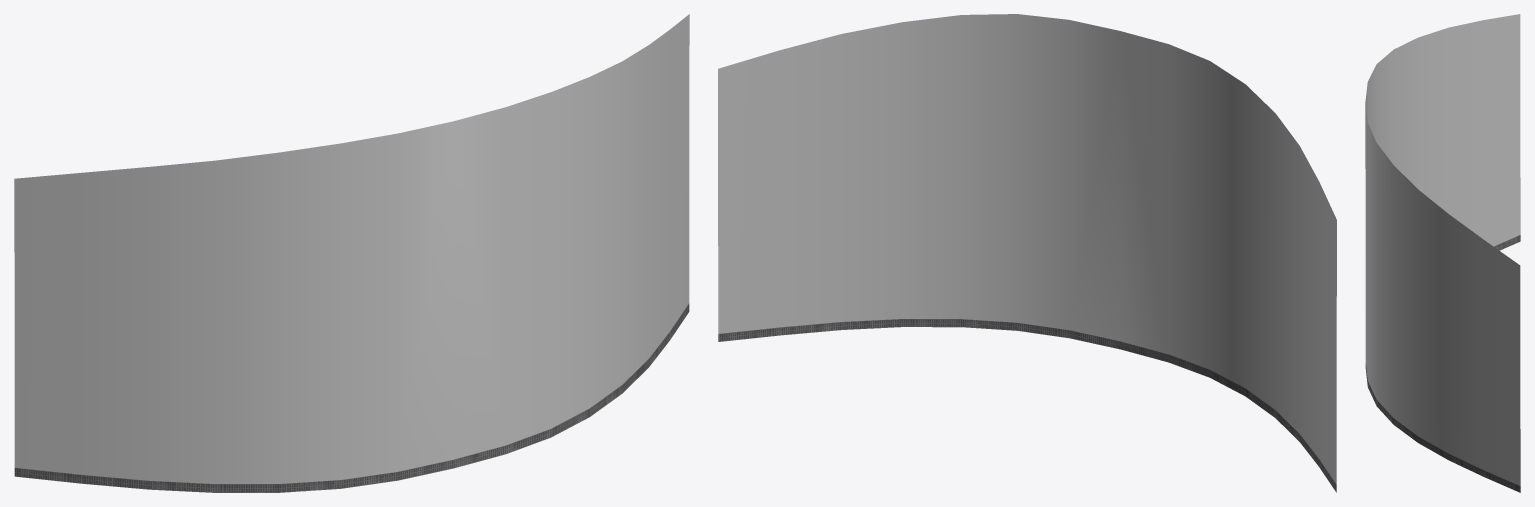
File: GlassWall.fbx
The picture shows the model from 3 angles, left to right: view 1: azimuth 30°, elevation 25°; view 2: azimuth 150°, elevation 25°; view 3: azimuth 270°, elevation 25°; orthographic projection. The views are drawn at different scales.
Parts seen in each view (by area): view 1: GlassWall; view 2: GlassWall; view 3: GlassWall.
Part boxes in pixels (box(x1,y1,x2,y2)): GlassWall: box(14, 14, 689, 492); GlassWall: box(718, 14, 1336, 492); GlassWall: box(1365, 14, 1520, 492).
Bounding box in the file's own units: 76.52 × 37.62 × 19.94.
